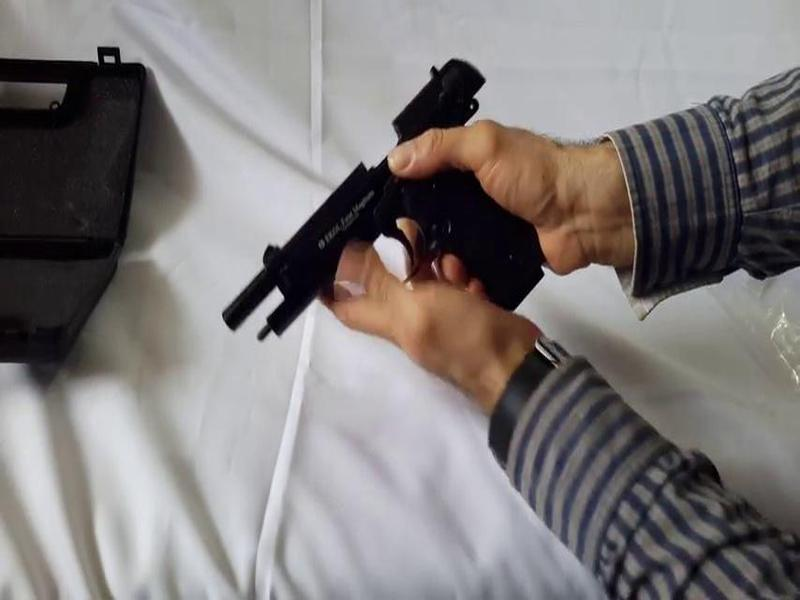Pistola: (213, 47, 574, 387)
